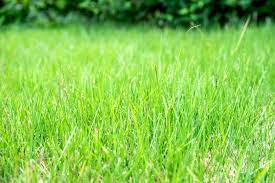grass: (1, 42, 274, 182)
